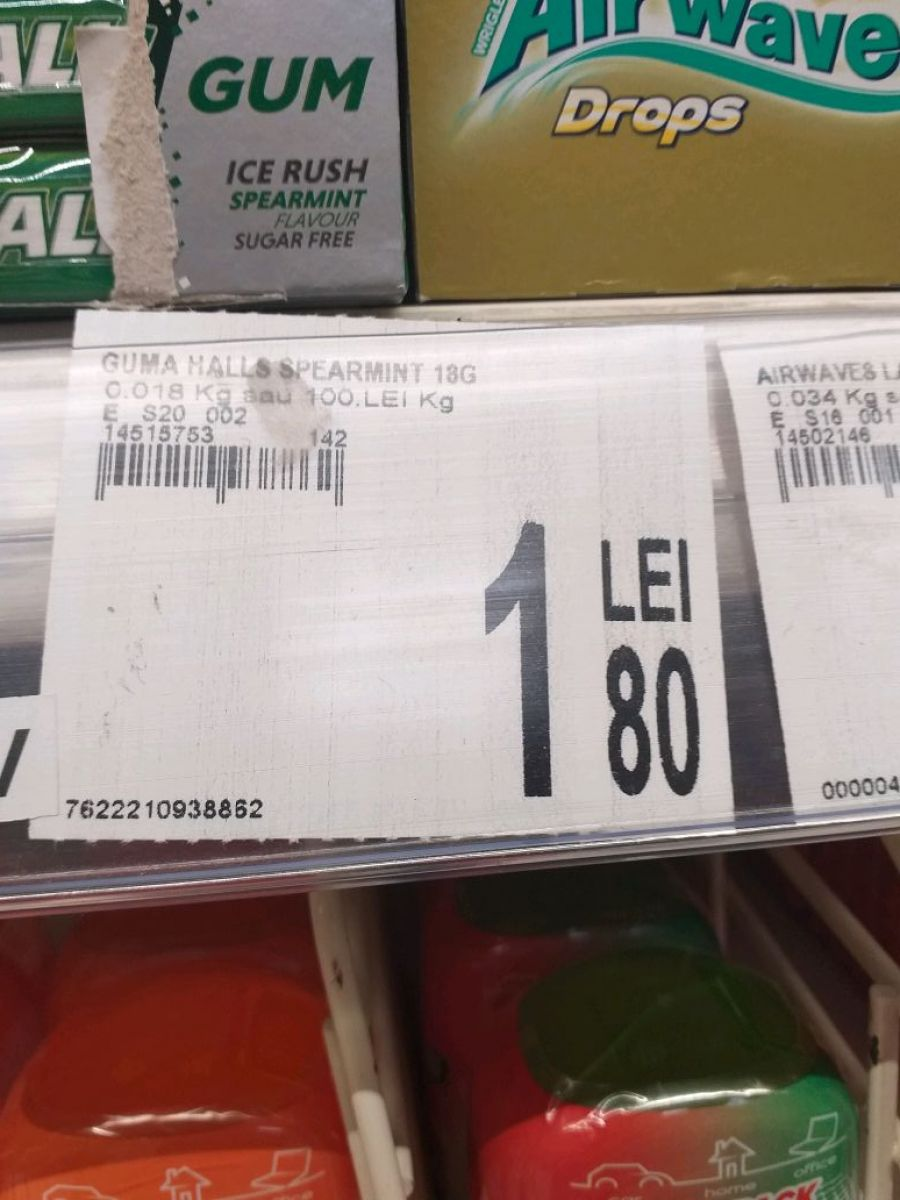bardcode: (58, 785, 271, 828)
list: (37, 304, 741, 856)
name: (101, 343, 484, 390)
price: (476, 510, 721, 818)
